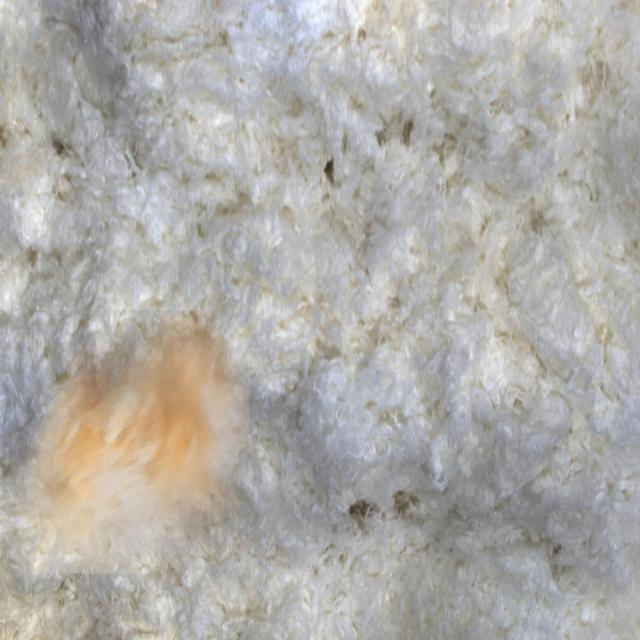dust: (3, 311, 250, 574)
